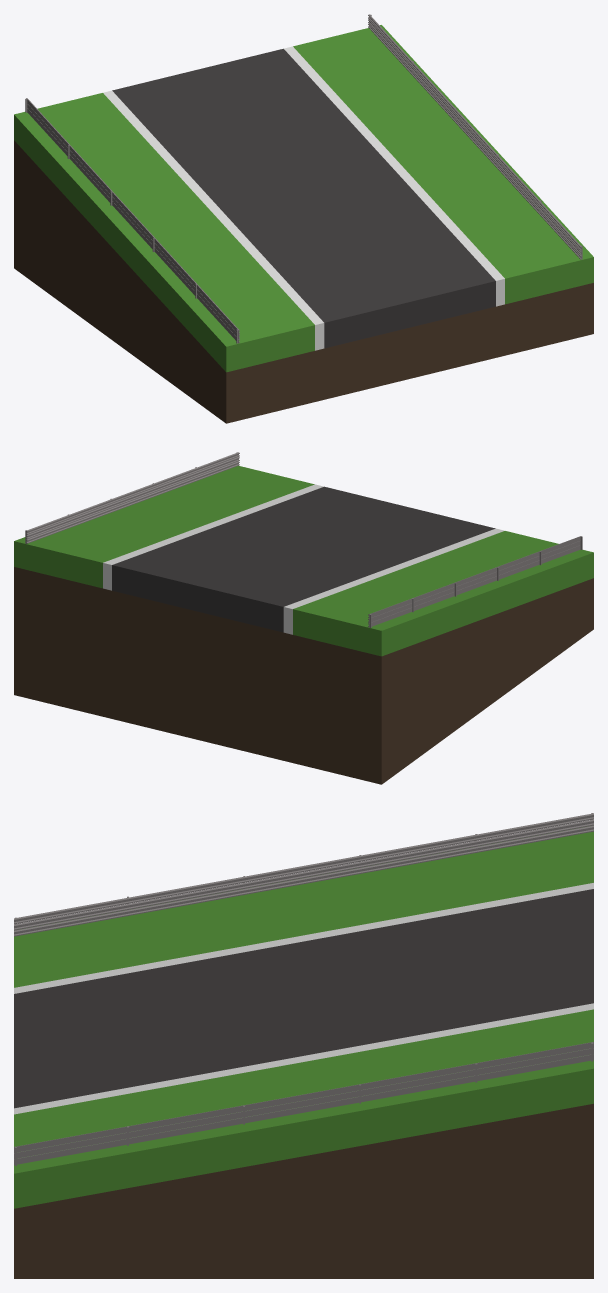
Rendered from tiles_tile-race-track-hill.fbx.
The picture shows the model from 3 angles, top to bottom: view 1: azimuth 30°, elevation 25°; view 2: azimuth 150°, elevation 25°; view 3: azimuth 270°, elevation 25°; orthographic projection. The views are drawn at different scales.
Visible parts, largest first — view 1: tiles_tile_race_track_hill; view 2: tiles_tile_race_track_hill; view 3: tiles_tile_race_track_hill.
Boxes of the visible parts, bbox=[...] form: tiles_tile_race_track_hill: bbox=[14, 14, 593, 423]; tiles_tile_race_track_hill: bbox=[14, 452, 593, 784]; tiles_tile_race_track_hill: bbox=[14, 813, 593, 1278].
Bounding box in the file's own units: 200 × 87 × 200.
